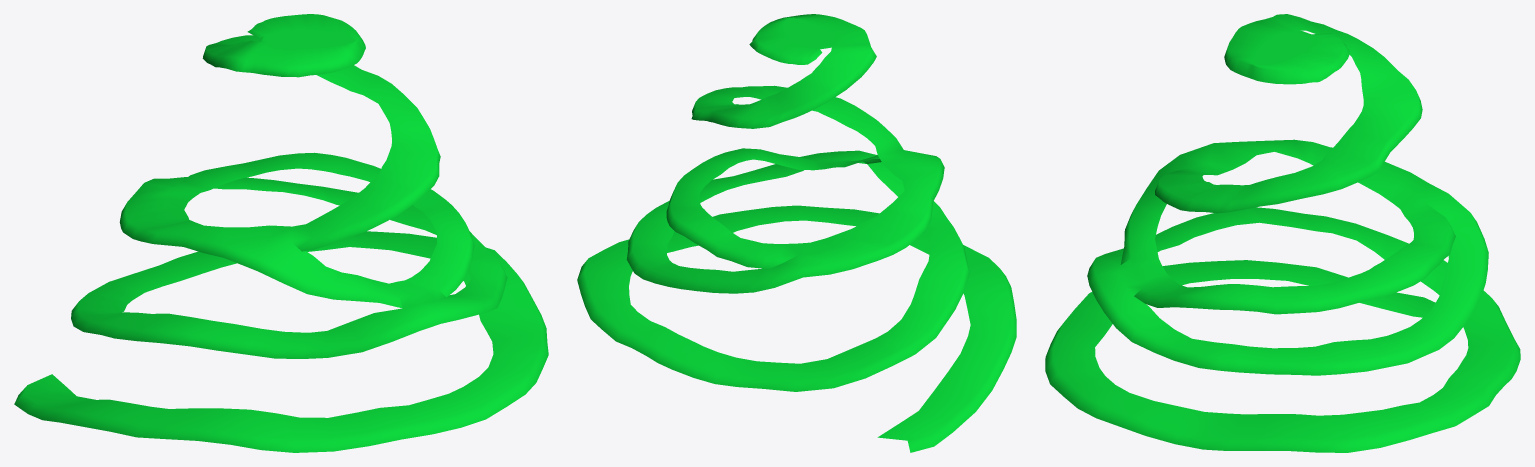
Rendered from Underground_Grass_Path_2.fbx.
3 renders of one model, left to right at view 1: azimuth 30°, elevation 25°; view 2: azimuth 150°, elevation 25°; view 3: azimuth 270°, elevation 25°, orthographic. The views are drawn at different scales.
Parts seen in each view (by area): view 1: polySurface1; view 2: polySurface1; view 3: polySurface1.
Boxes of the visible parts, x1,y1,x2,y2 form: polySurface1: (14,14,548,452); polySurface1: (577,14,1016,452); polySurface1: (1045,14,1520,452).
Bounding box in the file's own units: 31.43 × 24.27 × 28.65.
